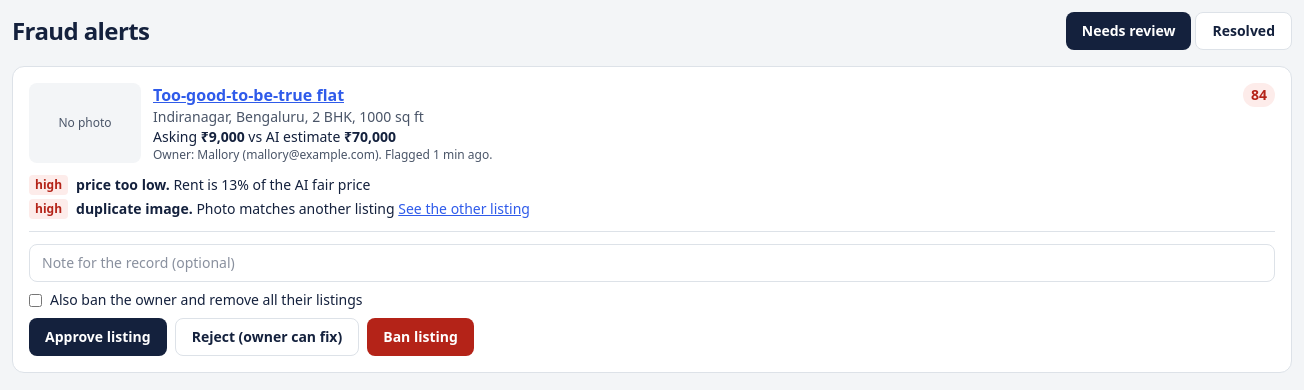
Test: fraud alert queue › approving sends the decision with the note and removes the card
Check: the link "Too-good-to-be-true flat" is shown, box [153,83,344,107]
Type "Called the owner" into the field named "Decision note".
click(652, 263); type("Called the owner")  # box [29,244,1275,282]
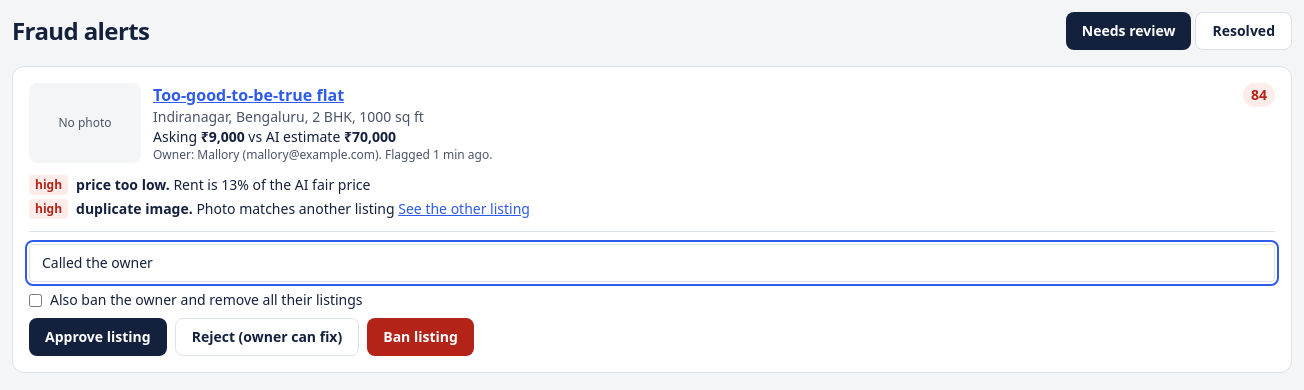
Click the button "Approve listing".
click(98, 337)  # box [29,318,167,356]
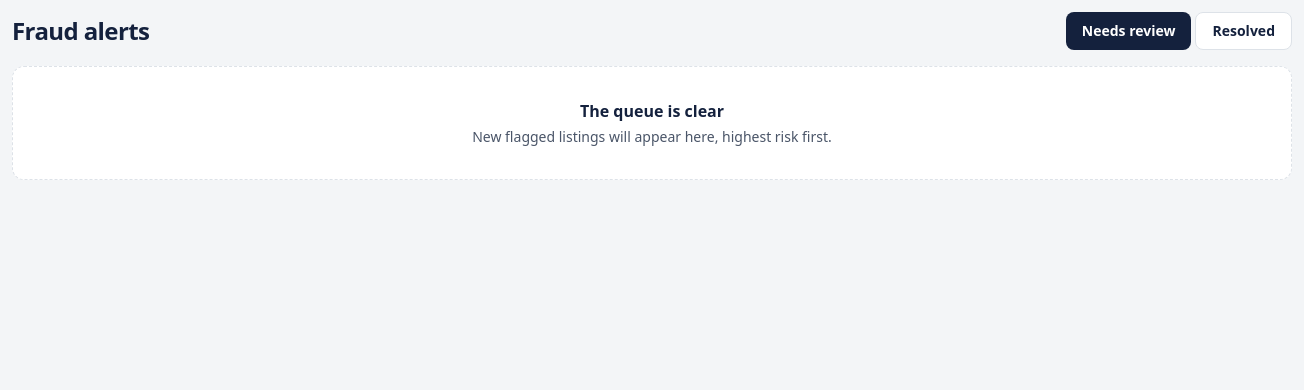
Check: the link "Too-good-to-be-true flat" is gone
Check: the text "The queue is clear" is shown, box [580,100,724,122]
